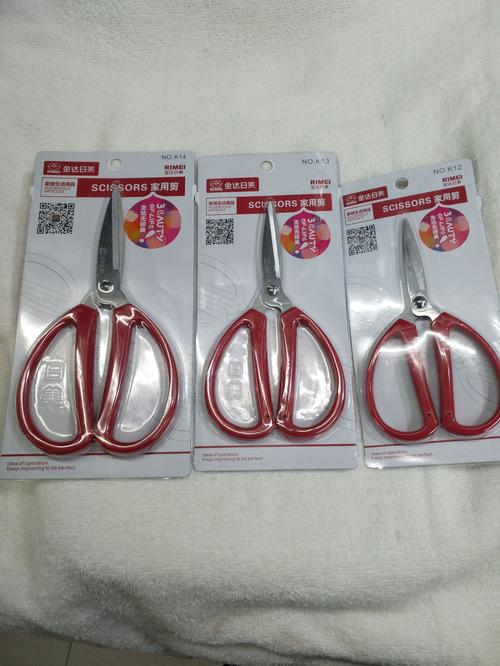scissor: (13, 185, 180, 459), (201, 192, 348, 442), (362, 213, 500, 446)
